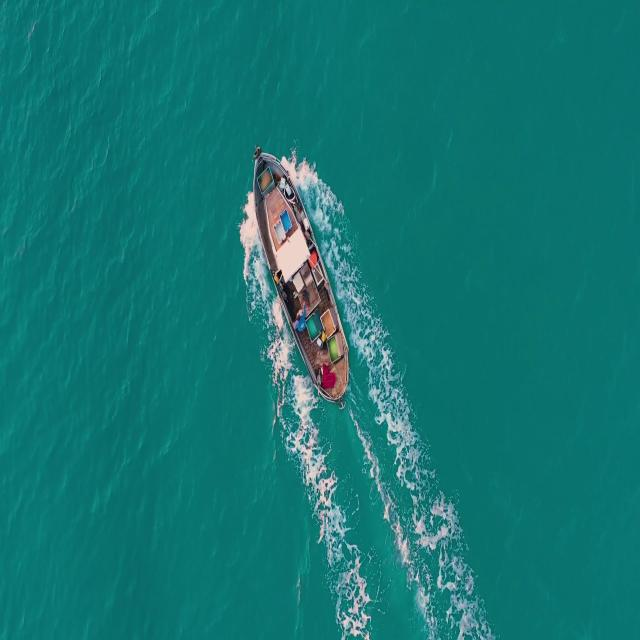ship: (250, 146, 349, 411)
